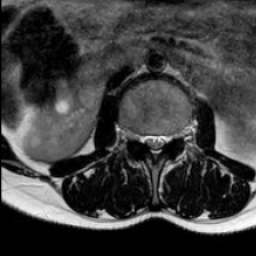CCS_normal: (150, 123, 160, 169)
LFS_stenosis: (170, 121, 182, 150)
LLS_normal: (160, 122, 170, 156)
RFS_normal: (131, 121, 141, 150)
RLS_normal: (141, 123, 150, 156)
